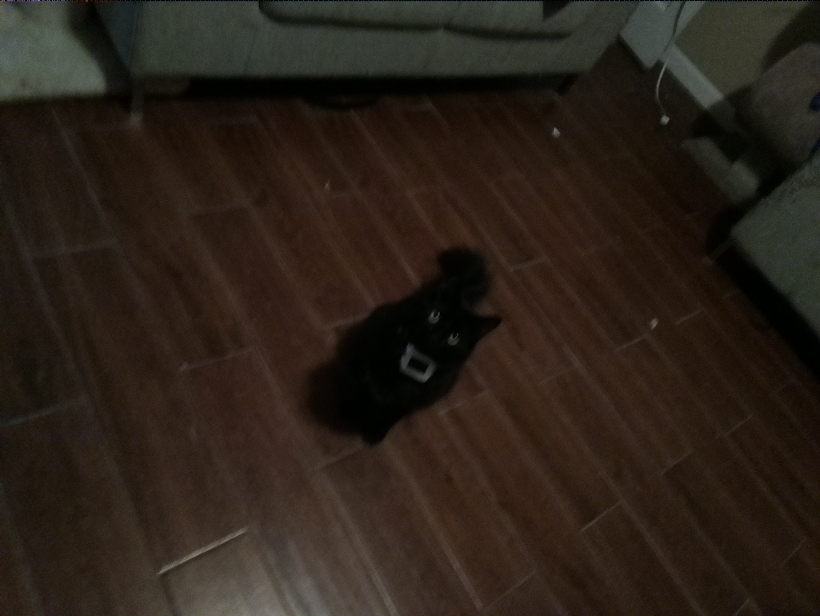cat: (280, 223, 511, 458)
